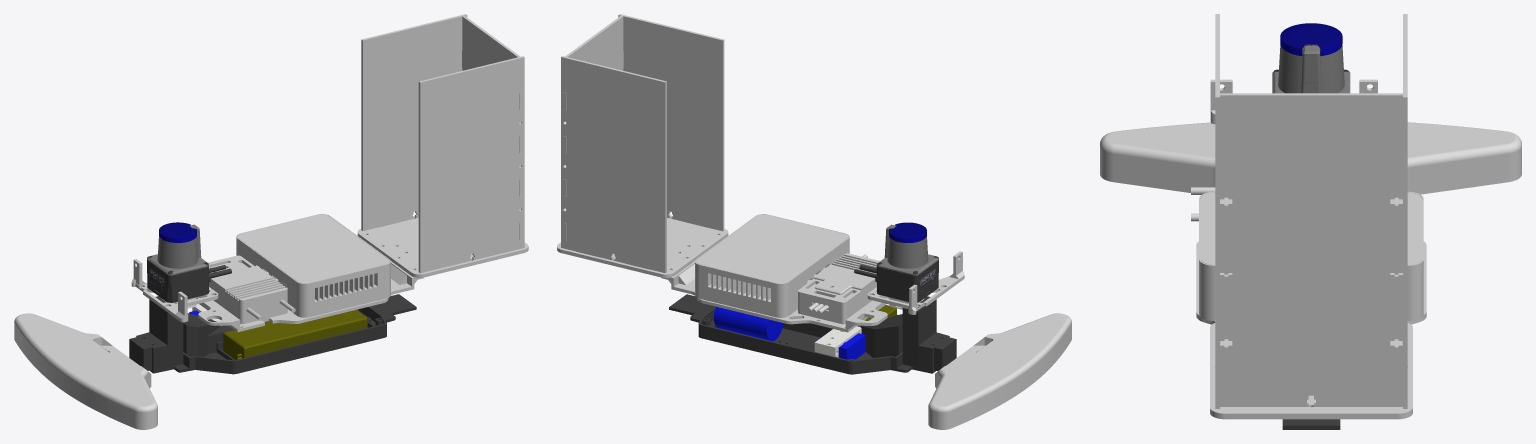
The model's file is rc_car_fusion.obj.
The picture shows the model from 3 angles, left to right: view 1: azimuth 30°, elevation 25°; view 2: azimuth 150°, elevation 25°; view 3: azimuth 270°, elevation 25°; orthographic projection. The views are drawn at different scales.
Parts seen in each view (by area): view 1: addon_side, addon_side (1), 본체1:1, bumper, 본체1:3, 본체1, 본체1:2, battery, addon_platform, deck-nuc-one, addon_rear, sensor_plate; view 2: addon_side (1), addon_side, 본체1:3, 본체1:1, bumper, 본체1, 본체1:2, addon_platform, deck-nuc-one, addon_rear, sensor_plate, servo mount (+1 smaller); view 3: addon_rear, bumper, 본체1, 본체1:1, addon_platform, addon_side, addon_side (1), sensor_plate, deck-nuc-one, 본체1:3.
Boxes of the visible parts, x1,y1,x2,y2 form: addon_side: (418,56,524,273); addon_side (1): (361,14,467,230); 본체1:1: (236,214,390,317); bumper: (14,313,157,429); 본체1:3: (129,294,416,374); 본체1: (147,222,231,302); 본체1:2: (208,255,295,323); battery: (223,310,367,359); addon_platform: (357,215,528,277); deck-nuc-one: (196,235,424,332); addon_rear: (462,16,522,239); sensor_plate: (131,259,218,322); addon_side (1): (561,56,666,273); addon_side: (618,14,724,231); 본체1:3: (669,294,956,374); 본체1:1: (695,214,849,317); bumper: (928,313,1071,429); 본체1: (854,222,938,302); 본체1:2: (798,253,879,324); addon_platform: (557,215,728,277); deck-nuc-one: (661,261,889,332); addon_rear: (563,15,623,240); sensor_plate: (867,251,964,314); servo mount: (814,326,861,357); addon_rear: (1220,93,1402,406); bumper: (1100,122,1521,194); 본체1: (1272,23,1350,93); 본체1:1: (1199,191,1423,320); addon_platform: (1210,323,1412,419); addon_side: (1215,14,1219,408); addon_side (1): (1403,14,1407,408); sensor_plate: (1210,79,1377,124); deck-nuc-one: (1196,241,1426,324); 본체1:3: (1282,419,1340,429).
Size of the model in its own units: 534 by 284 by 270.
